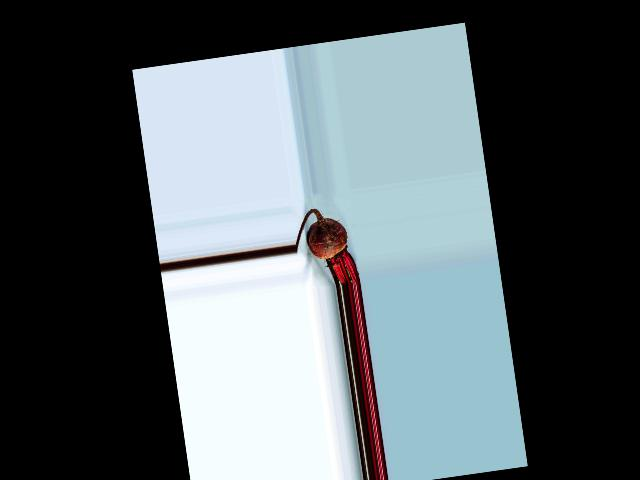beet: (291, 204, 360, 291)
